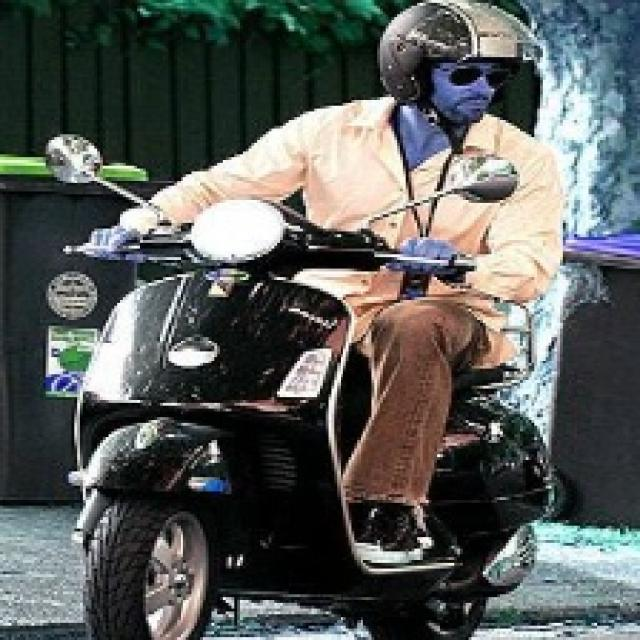bike: (59, 184, 406, 638)
